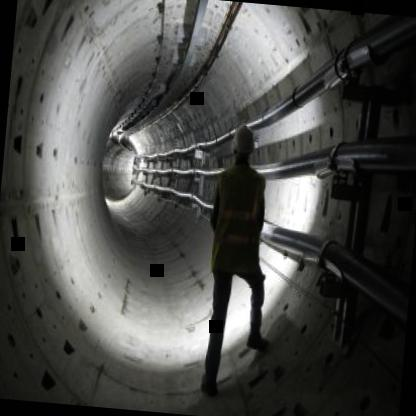helmet: (229, 124, 256, 170)
